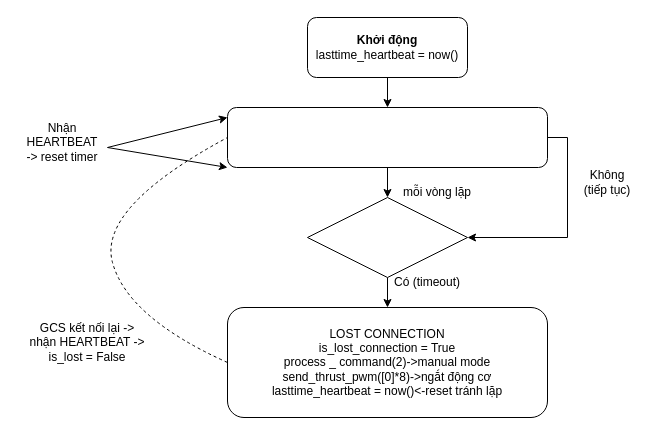
This 654x435 diagram has some shape labels left out. The centre of each missing label's shape, as x and y in pixels:
CONNECTED is_lost_connection = False Nhận lệnh MANUAL_CONTROL/SET_MODE: point 387,137
now()-lasttime >5.0 s?: point 387,237
